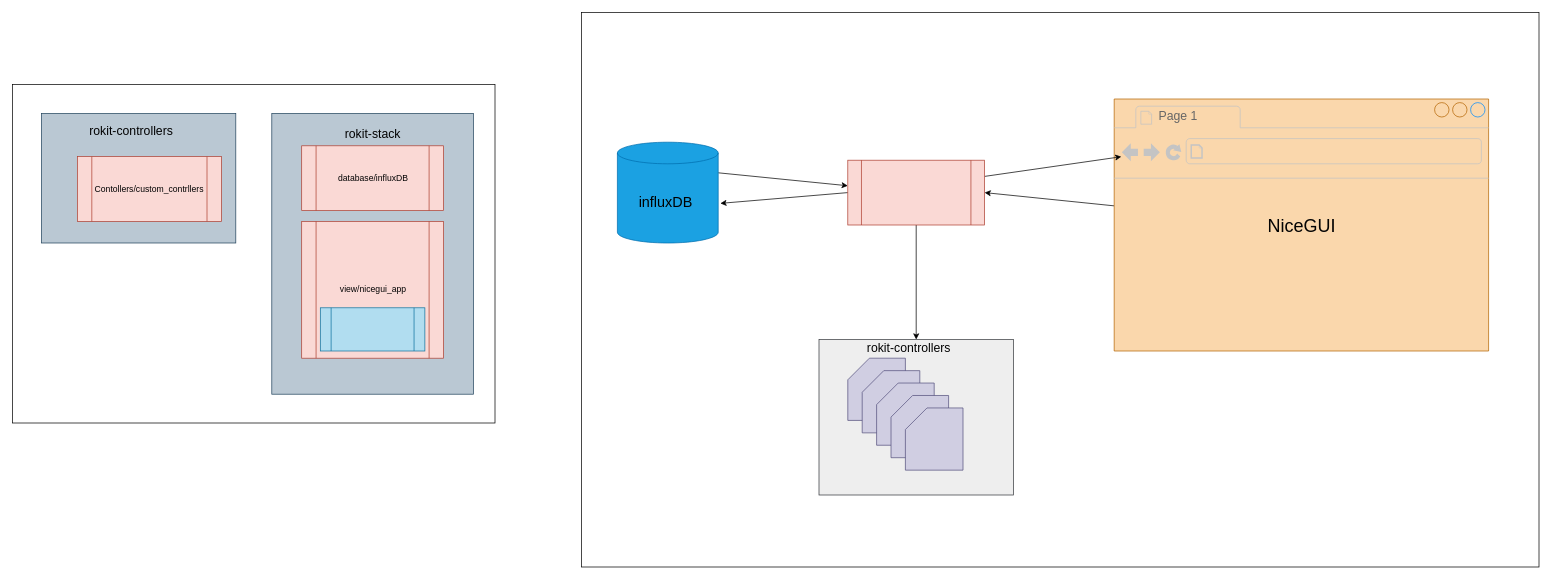
Some shapes in this 1552 by 587 pixel diagram are drawn without their labels. The shapes that lost their labels are listed below. From the top down, each one's centre as x and y in pixels, then its label:
At [1297,151]: "https://www.draw.io".
At [916,192]: "rokitAPI".
At [372,329]: "rokitAPI/FastAPI".
